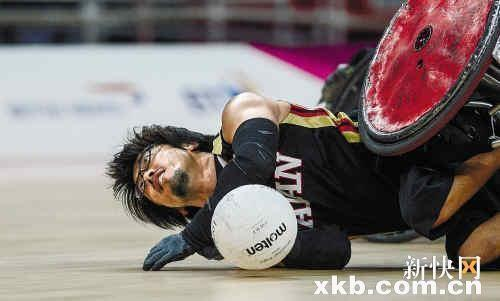Fall-Detected: (108, 74, 488, 280)
